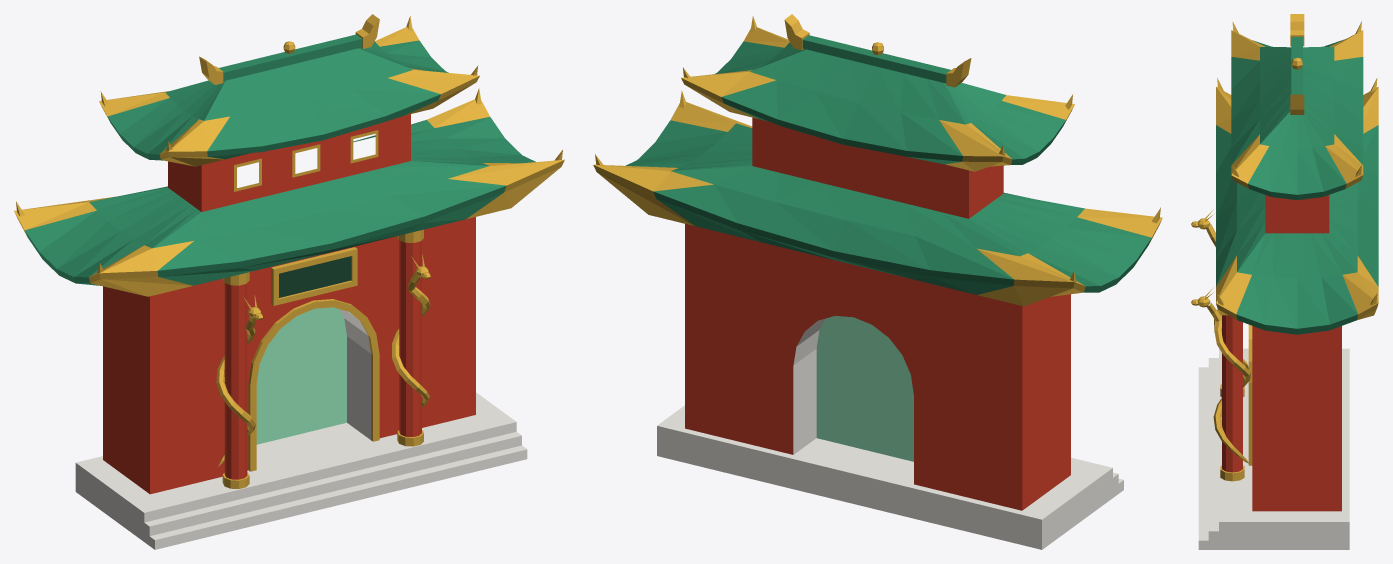
File: temple-gate.glb
3 renders of one model, left to right at view 1: azimuth 30°, elevation 25°; view 2: azimuth 150°, elevation 25°; view 3: azimuth 270°, elevation 25°, orthographic. The views are drawn at different scales.
Visible parts, largest first — view 1: Walls, Roofs, Steps, Gold, Glow, Plaque; view 2: Walls, Roofs, Steps, Gold, Glow; view 3: Roofs, Walls, Steps, Gold.
Part boxes in pixels (x1,y1,x2,y2): Walls: (103, 114, 475, 494); Roofs: (25, 34, 535, 285); Steps: (75, 309, 527, 549); Gold: (14, 14, 564, 488); Glow: (256, 307, 346, 444); Plaque: (279, 256, 351, 297); Walls: (685, 117, 1070, 510); Roofs: (625, 35, 1151, 294); Steps: (657, 318, 1123, 549); Gold: (593, 14, 1162, 306); Glow: (816, 316, 913, 461); Roofs: (1216, 37, 1378, 334); Walls: (1222, 195, 1341, 511); Steps: (1198, 348, 1349, 549); Gold: (1191, 14, 1378, 481).
Bounding box in the file's own units: 40 × 35.2 × 14.61.
